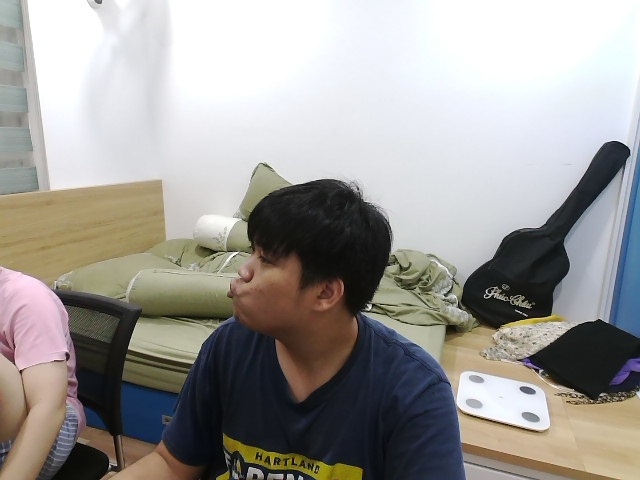face: (225, 179, 394, 332)
